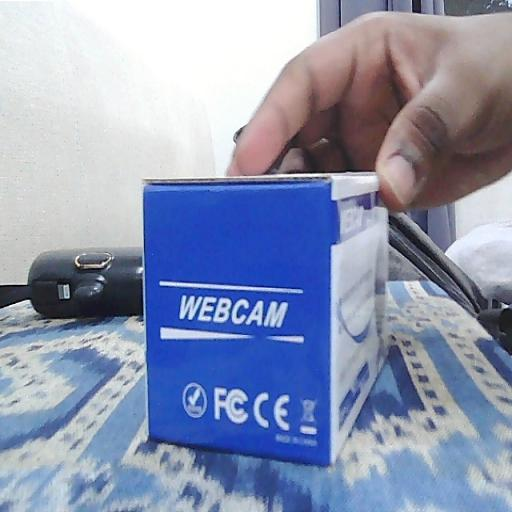webcam_box: (142, 169, 390, 468)
